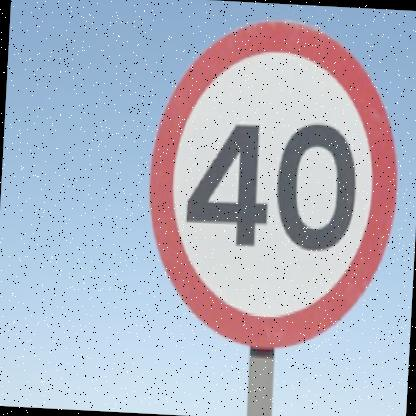speedlimit: (138, 7, 404, 354)
